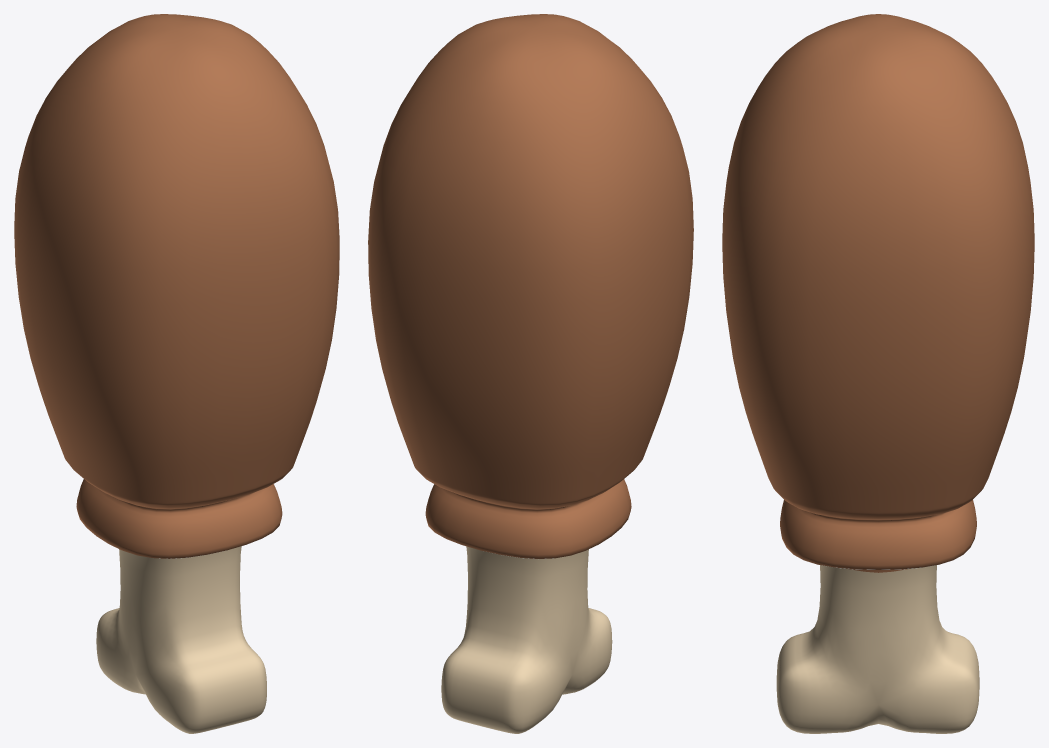
The model's file is CHICKEN (1).fbx.
The picture shows the model from 3 angles, left to right: view 1: azimuth 30°, elevation 25°; view 2: azimuth 150°, elevation 25°; view 3: azimuth 270°, elevation 25°; orthographic projection. The views are drawn at different scales.
Visible parts, largest first — view 1: Chicken leg; view 2: Chicken leg; view 3: Chicken leg.
Part boxes in pixels (bbox=[...]): Chicken leg: bbox=[14, 14, 339, 733]; Chicken leg: bbox=[368, 14, 693, 733]; Chicken leg: bbox=[722, 14, 1034, 733].
Size of the model in its own units: 135 by 326 by 135.
